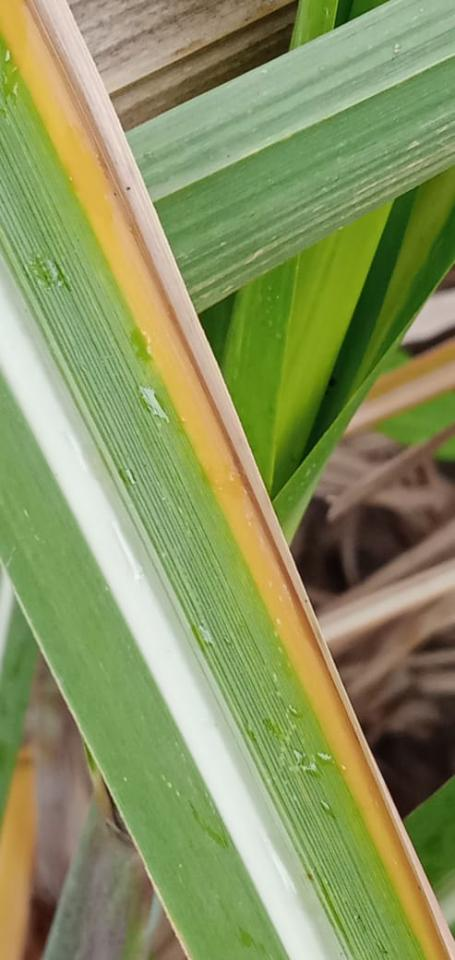Yellow: (2, 0, 454, 959)
